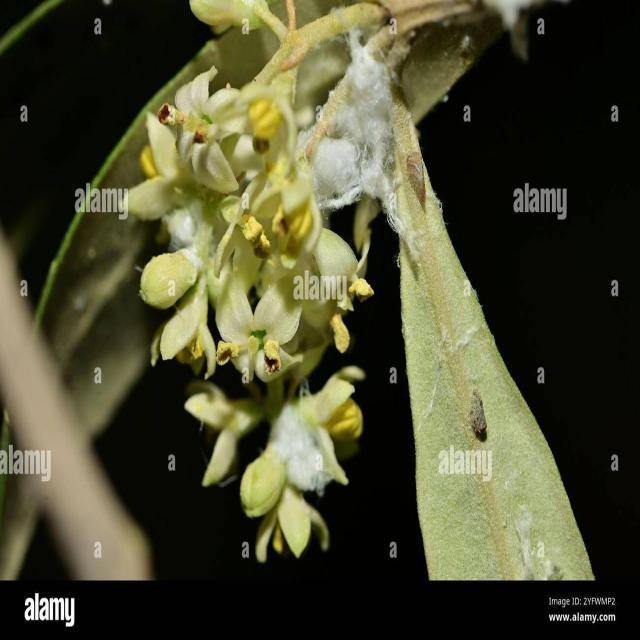Psyllid: (312, 44, 420, 274), (264, 376, 354, 494), (162, 199, 225, 269), (406, 151, 427, 210)
